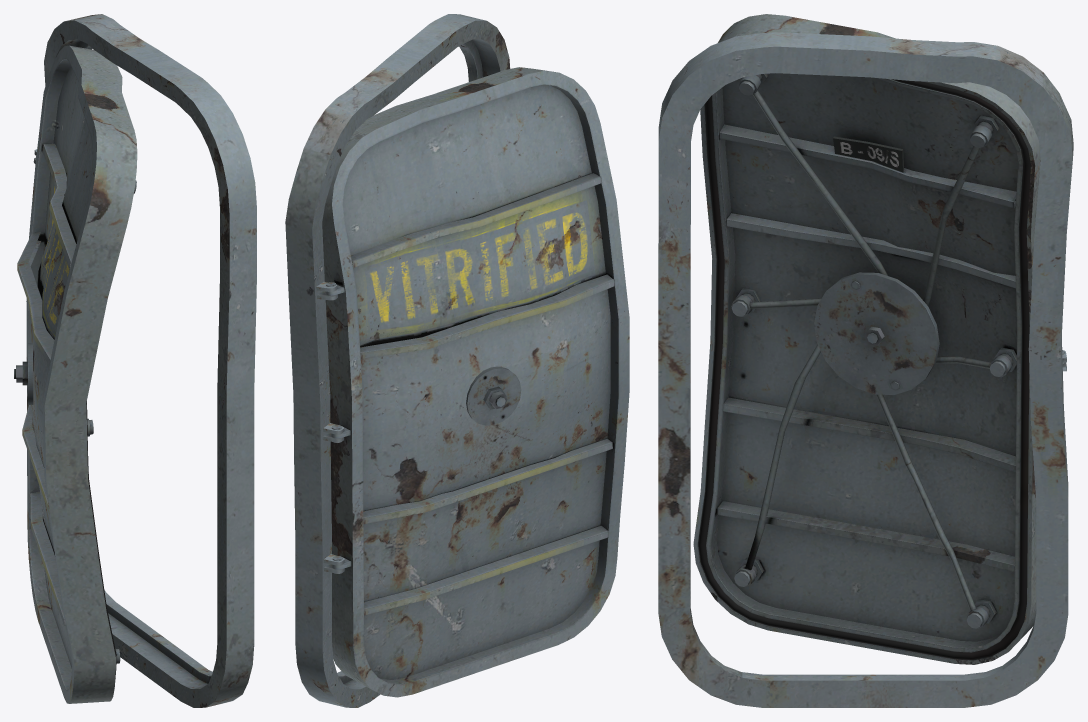
The model's file is pressure_door_broken.glb.
The picture shows the model from 3 angles, left to right: view 1: azimuth 30°, elevation 25°; view 2: azimuth 150°, elevation 25°; view 3: azimuth 270°, elevation 25°; orthographic projection. The views are drawn at different scales.
Parts seen in each view (by area): view 1: pressure_door_broken; view 2: pressure_door_broken; view 3: pressure_door_broken.
Boxes of the visible parts, box(x1,y1,x2,y2) form: pressure_door_broken: box(14, 14, 256, 707); pressure_door_broken: box(285, 14, 629, 707); pressure_door_broken: box(658, 14, 1073, 707).
Bounding box in the file's own units: 0.7821 × 2.44 × 1.39.
Materials: 1 (1 with a texture image).
